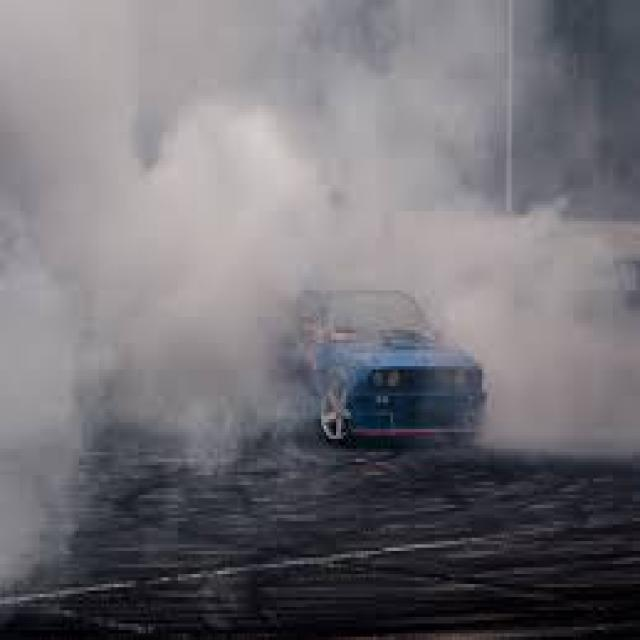smoke: (0, 1, 640, 477)
